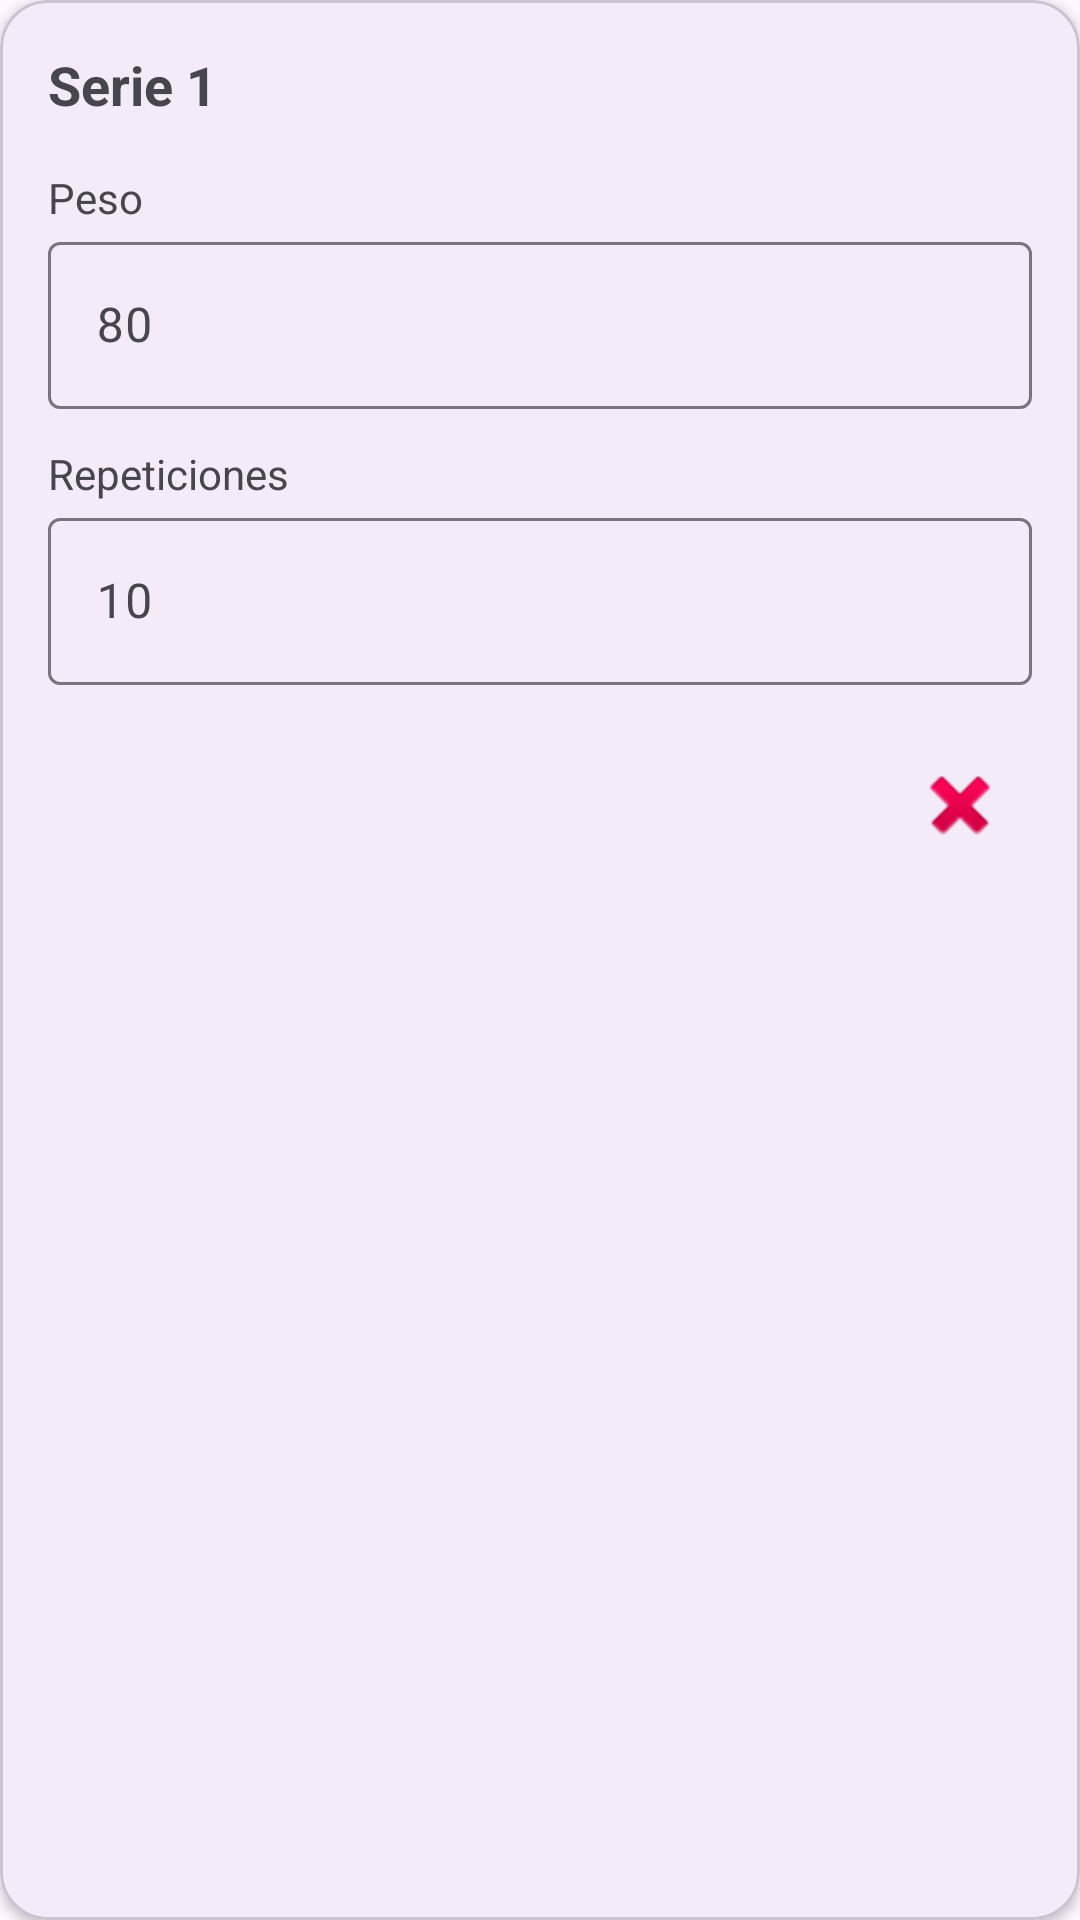

Icon bounding boxes for this 1080 x 1920 phone screenshot, format (x1, y1, x2, y2):
delete: (929, 776, 991, 835)
